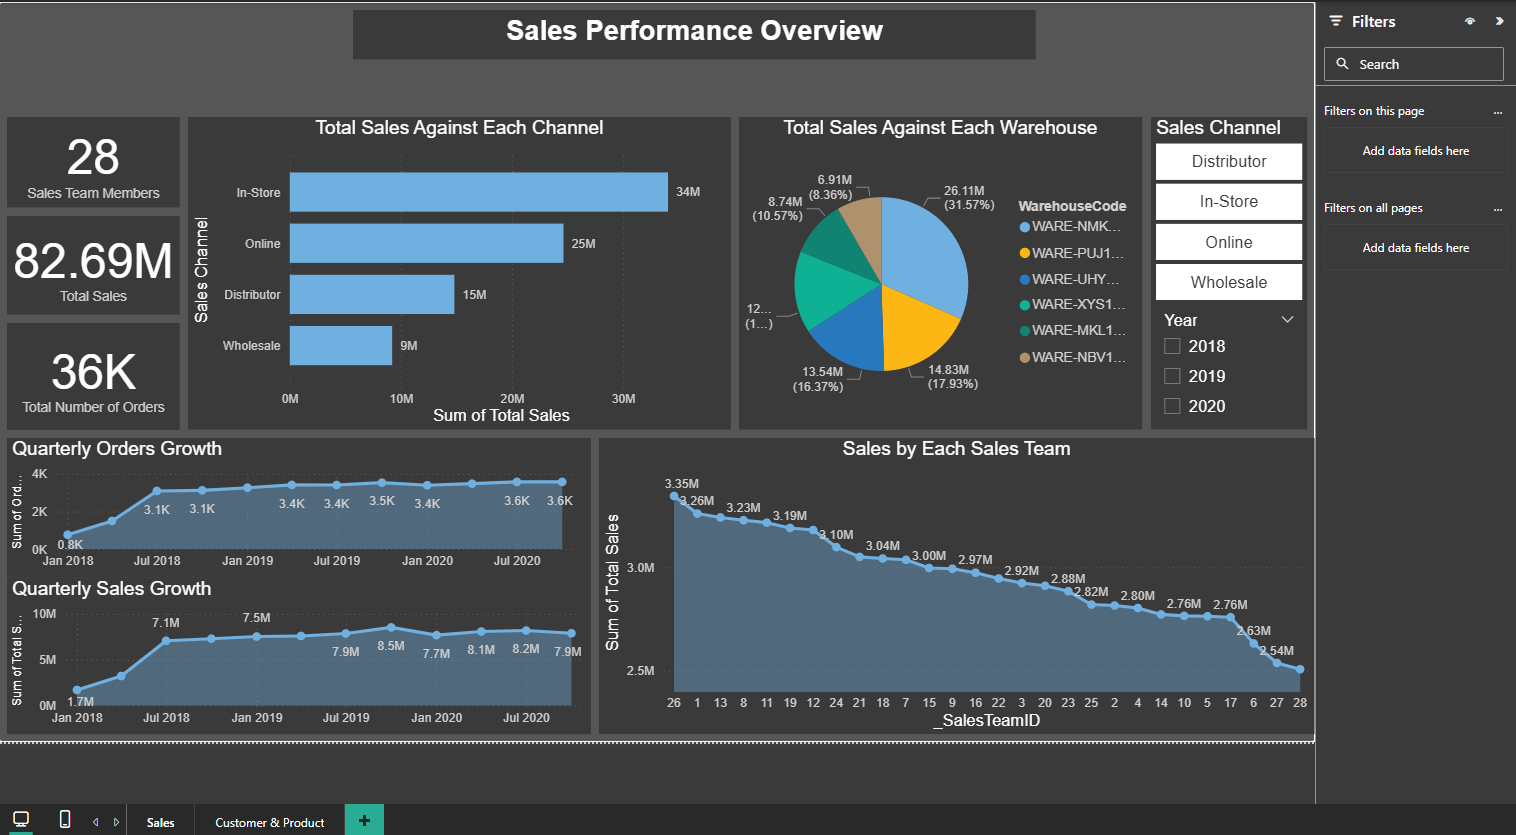

Layout of this report page (visuals, bound fields, positions):
{"tool":"powerbi","page":{"name":"Sales","canvas":[1280,720],"ordinal":0},"visuals":[{"type":"barChart","title":"Total Sales Against Each Channel","fields":{"Category":["Working Sheet.Sales Channel"],"Y":["Sum(Working Sheet.Total Sales)"]},"box":[184,112,528,304],"z":0},{"type":"pieChart","title":"Total Sales Against Each Warehouse","fields":{"Category":["Working Sheet.WarehouseCode"],"Y":["Sum(Working Sheet.Total Sales)"]},"box":[720,112,392,304],"z":1000},{"type":"areaChart","title":"Quarterly Orders Growth ","fields":{"Category":["Working Sheet.R-Order Date.Variation.Date Hierarchy.Year","Working Sheet.R-Order Date.Variation.Date Hierarchy.Quarter"],"Y":["Sum(Working Sheet.Order Quantity)"]},"box":[8,424,568,136],"z":2000},{"type":"stackedAreaChart","title":"Sales by Each Sales Team","fields":{"Category":["Working Sheet._SalesTeamID"],"Y":["Sum(Working Sheet.Total Sales)"]},"box":[584,424,696,288],"z":3000},{"type":"advancedSlicerVisual","fields":{"Values":["Working Sheet.Sales Channel"]},"box":[1120,112,152,184],"z":4000},{"type":"areaChart","title":"Quarterly Sales Growth","fields":{"Category":["Working Sheet.R-Order Date.Variation.Date Hierarchy.Year","Working Sheet.R-Order Date.Variation.Date Hierarchy.Quarter"],"Y":["Sum(Working Sheet.Total Sales)"]},"box":[8,560,568,152],"z":5000},{"type":"slicer","fields":{"Values":["Working Sheet.R-Order Date.Variation.Date Hierarchy.Year"]},"box":[1120,296,152,120],"z":6000},{"type":"textbox","box":[344,8,664,48],"z":7000},{"type":"card","fields":{"Values":["Sum(Working Sheet.Total Sales)"]},"box":[8,208,168,96],"z":8000},{"type":"card","fields":{"Values":["Sum(Working Sheet.Order Quantity)"]},"box":[8,312,168,104],"z":9000},{"type":"card","fields":{"Values":["Count(Working Sheet._SalesTeamID)"]},"box":[8,112,168,88],"z":10000}]}

Visuals, with their boxes on the page's 1280x720 design canvas (x1, y1, x2, y2). These are canvas units, not pixel positions in the 1516x835 screenshot, which may show the page scaled, cropped or inside an application window:
"Total Sales Against Each Channel" barChart: x1=184 y1=112 x2=712 y2=416
"Total Sales Against Each Warehouse" pieChart: x1=720 y1=112 x2=1112 y2=416
"Quarterly Orders Growth " areaChart: x1=8 y1=424 x2=576 y2=560
"Sales by Each Sales Team" stackedAreaChart: x1=584 y1=424 x2=1280 y2=712
advancedSlicerVisual - Working Sheet.Sales Channel: x1=1120 y1=112 x2=1272 y2=296
"Quarterly Sales Growth" areaChart: x1=8 y1=560 x2=576 y2=712
slicer - Working Sheet.R-Order Date.Variation.Date Hierarchy.Year: x1=1120 y1=296 x2=1272 y2=416
textbox: x1=344 y1=8 x2=1008 y2=56
card - Sum(Working Sheet.Total Sales): x1=8 y1=208 x2=176 y2=304
card - Sum(Working Sheet.Order Quantity): x1=8 y1=312 x2=176 y2=416
card - Count(Working Sheet._SalesTeamID): x1=8 y1=112 x2=176 y2=200
